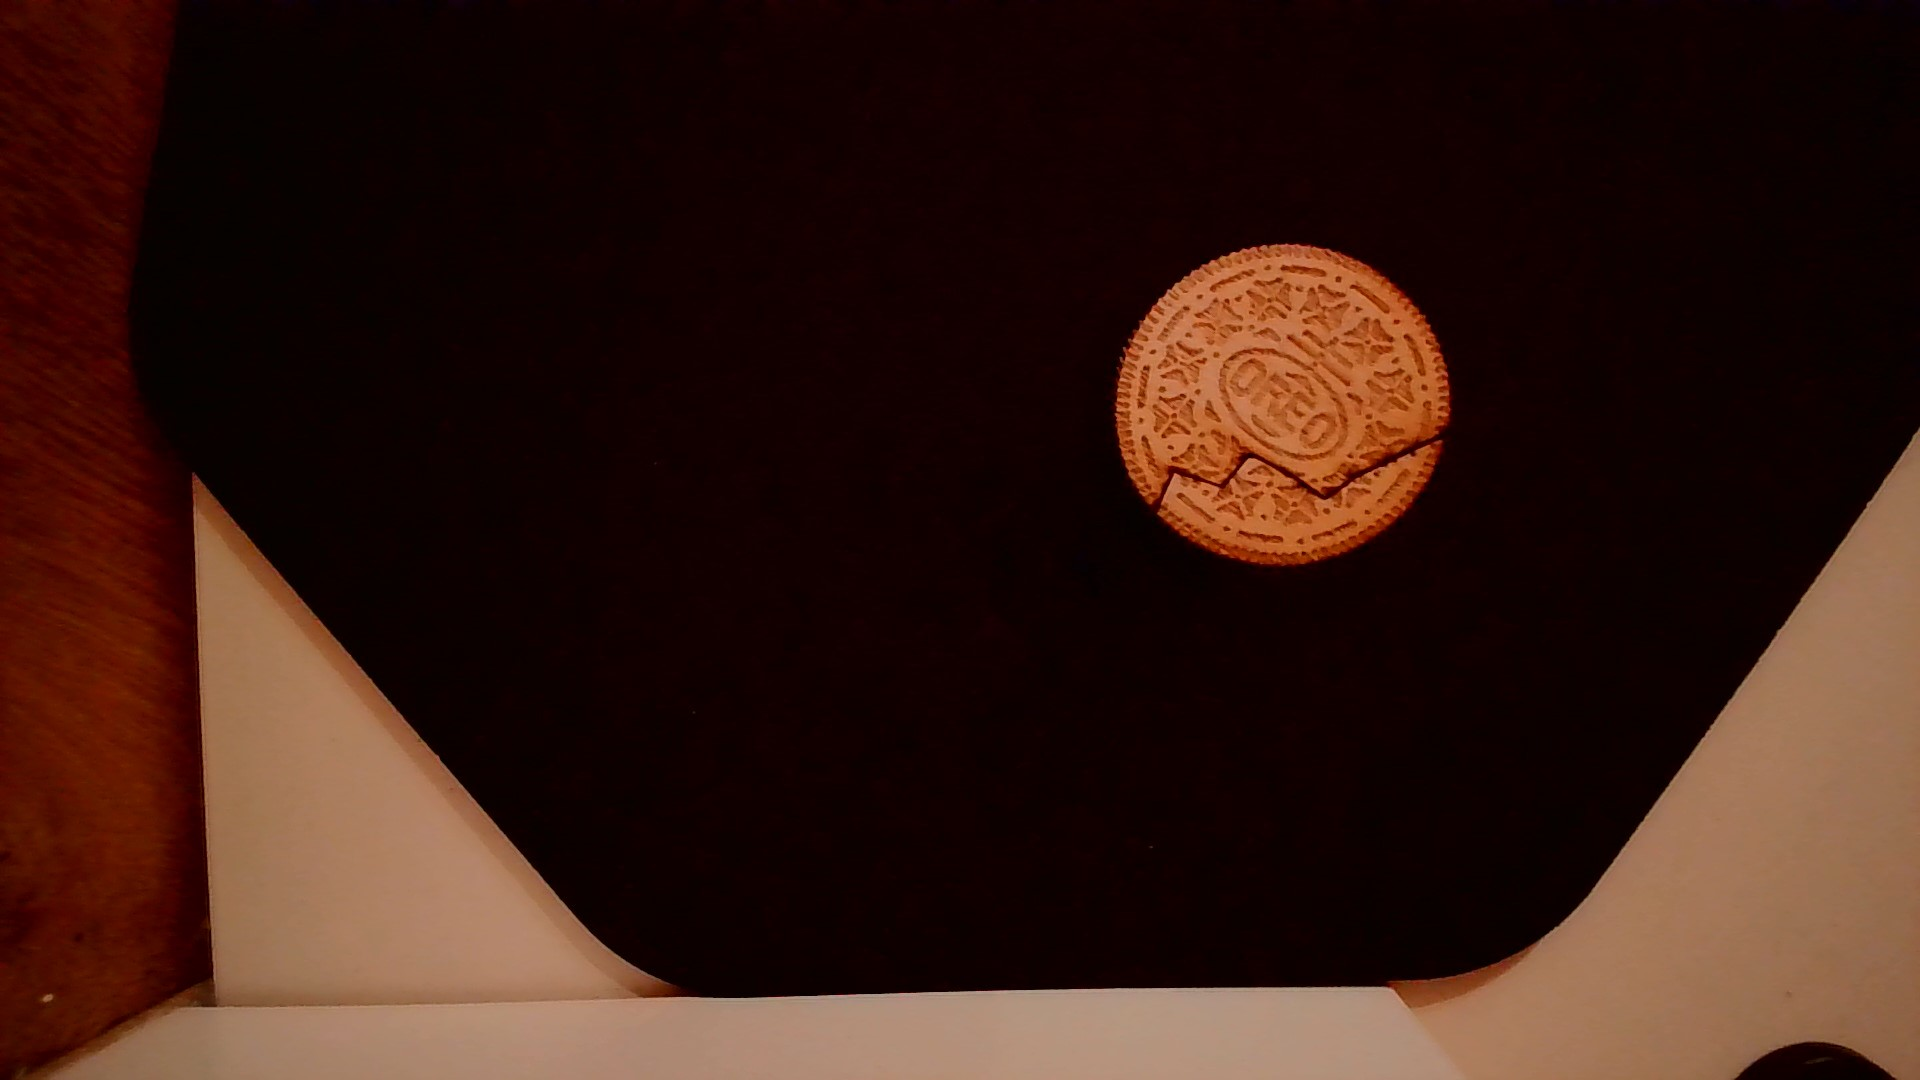Fissure: (1135, 419, 1451, 520)
Oréo: (1105, 233, 1457, 574)
